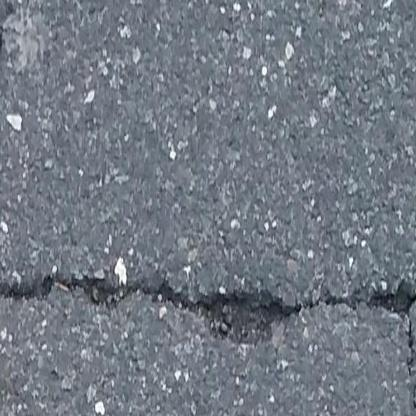Cracks: (0, 220, 416, 326), (372, 265, 416, 416), (0, 328, 20, 416)
